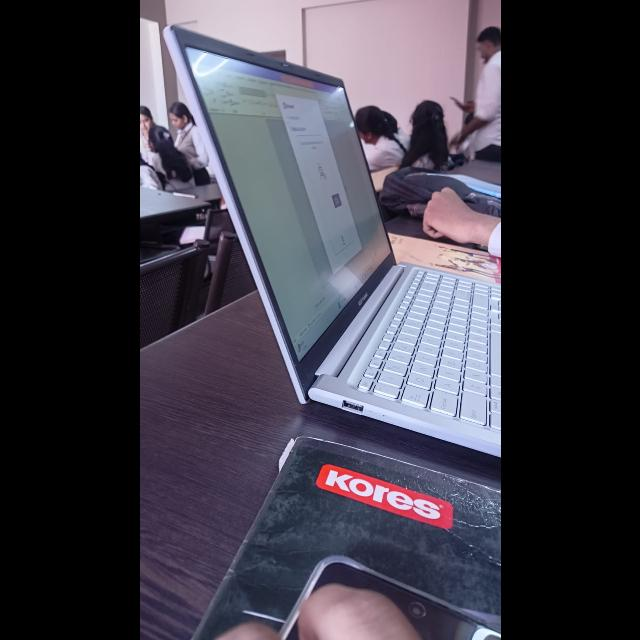laptop: (148, 29, 500, 471)
